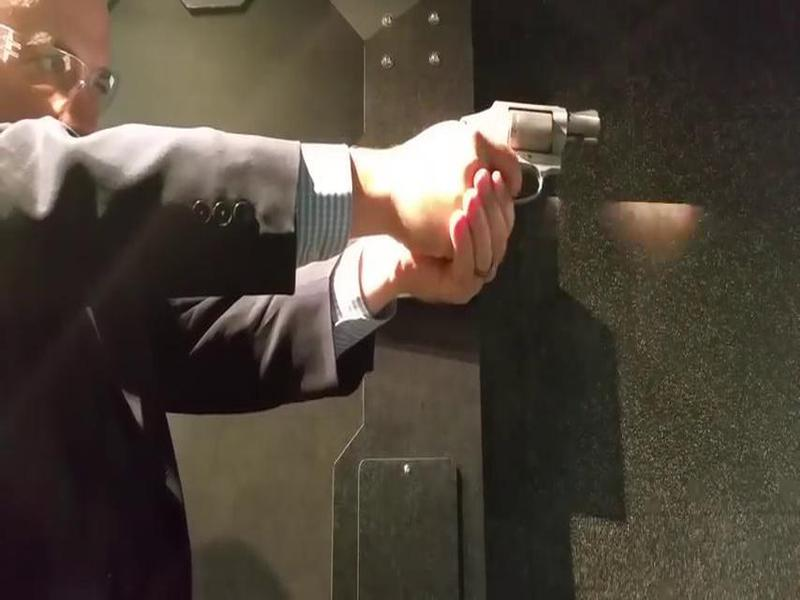Revolver: (449, 90, 604, 199)
